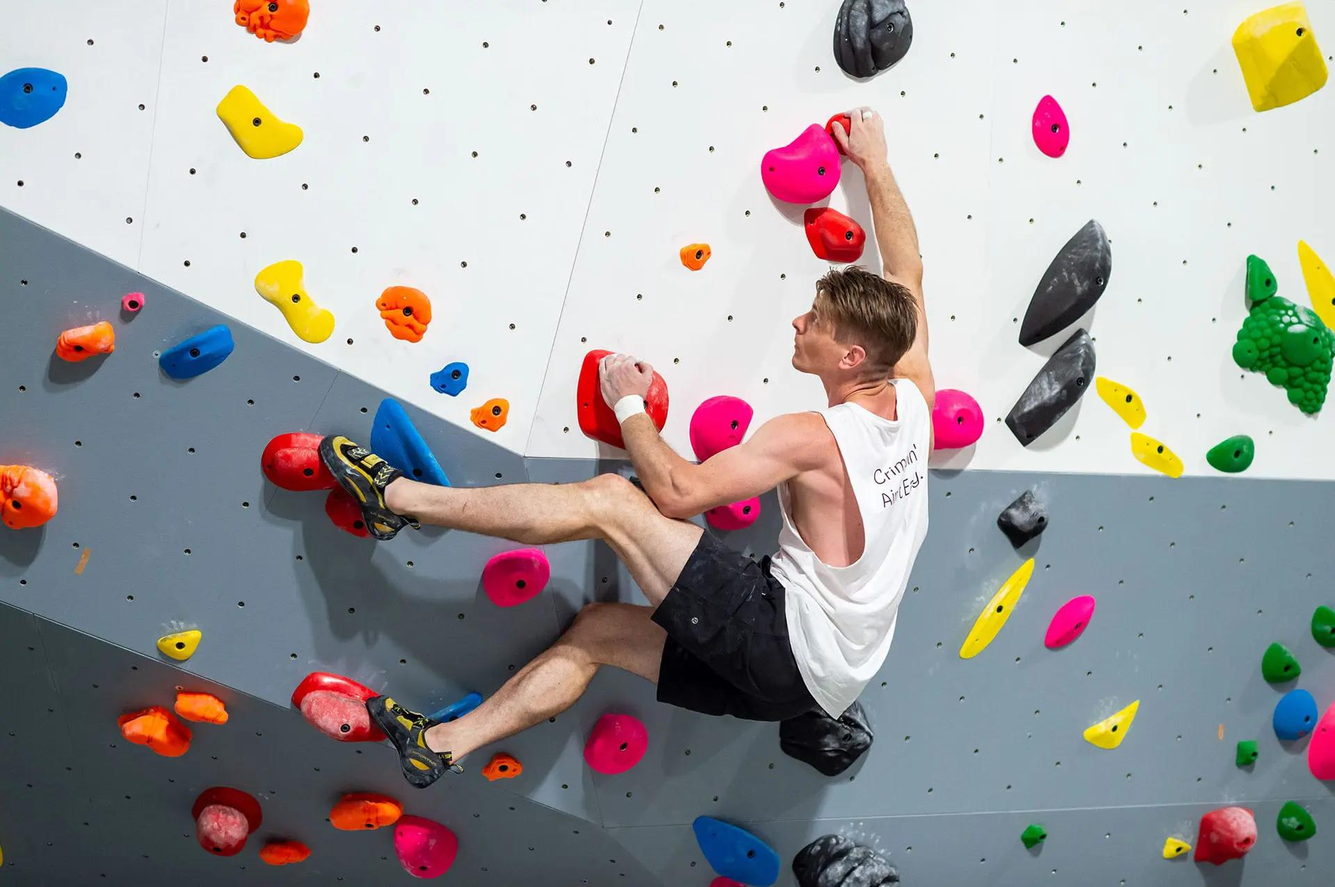black-hold: (1003, 216, 1134, 364), (1218, 281, 1335, 419), (992, 326, 1116, 450), (1223, 0, 1334, 116), (283, 657, 402, 761), (353, 393, 452, 510), (772, 693, 882, 789), (750, 119, 854, 218), (248, 249, 346, 354), (204, 80, 307, 176), (957, 551, 1038, 668), (175, 770, 271, 867), (680, 813, 789, 887), (675, 382, 764, 463), (675, 383, 764, 463), (575, 703, 657, 787), (381, 810, 464, 886), (474, 539, 558, 612), (111, 694, 199, 763), (834, 0, 912, 77), (475, 541, 557, 612), (569, 348, 624, 453), (792, 834, 899, 886), (154, 322, 240, 386), (258, 428, 338, 496), (1035, 586, 1104, 657), (1193, 802, 1259, 869), (369, 280, 437, 345), (1089, 366, 1154, 431), (991, 488, 1056, 553), (583, 713, 649, 776), (0, 67, 67, 128), (1262, 683, 1326, 746), (1294, 234, 1335, 332), (316, 484, 380, 546), (1122, 428, 1190, 482), (0, 465, 57, 529), (802, 207, 867, 263), (930, 387, 986, 450), (51, 317, 119, 366), (233, 0, 309, 42), (1251, 639, 1306, 694), (1268, 799, 1323, 852), (1083, 700, 1139, 749), (703, 494, 765, 537), (330, 793, 402, 830), (429, 686, 485, 731), (704, 497, 763, 536), (468, 392, 517, 438), (173, 688, 230, 727), (1033, 96, 1069, 157), (1307, 704, 1334, 779), (427, 354, 472, 398), (1206, 436, 1254, 472), (156, 628, 203, 662), (1245, 255, 1277, 304), (480, 749, 523, 782), (260, 841, 309, 865), (1016, 819, 1049, 850), (1311, 605, 1334, 647), (1159, 836, 1190, 866), (680, 244, 711, 270), (1236, 740, 1259, 766), (121, 292, 145, 313), (709, 877, 744, 886)
